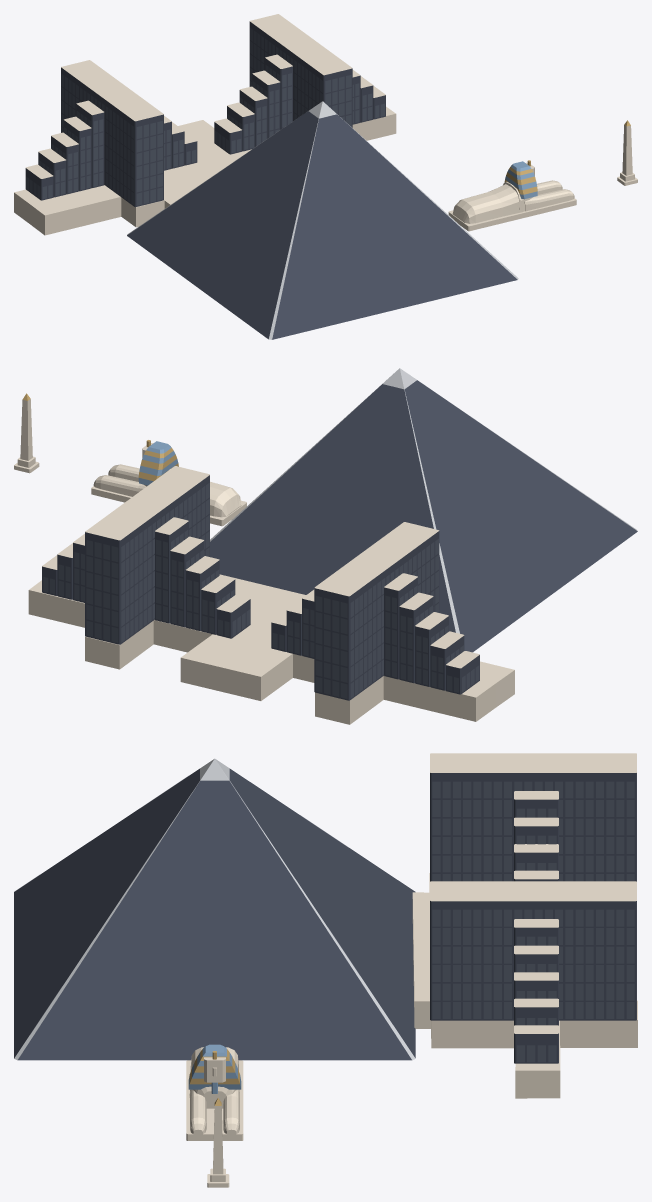
File: lv-luxor.glb
3 views of the same model, one above another, from view 1: azimuth 30°, elevation 25°; view 2: azimuth 150°, elevation 25°; view 3: azimuth 270°, elevation 25° (orthographic). The views are drawn at different scales.
Visible parts, largest first — view 1: Luxor Las Vegas; view 2: Luxor Las Vegas; view 3: Luxor Las Vegas.
Boxes of the visible parts, <box> form: Luxor Las Vegas: <box>14,14,637,339</box>; Luxor Las Vegas: <box>14,368,637,724</box>; Luxor Las Vegas: <box>14,753,637,1187</box>.
Bounding box in the file's own units: 365 × 109 × 284.
